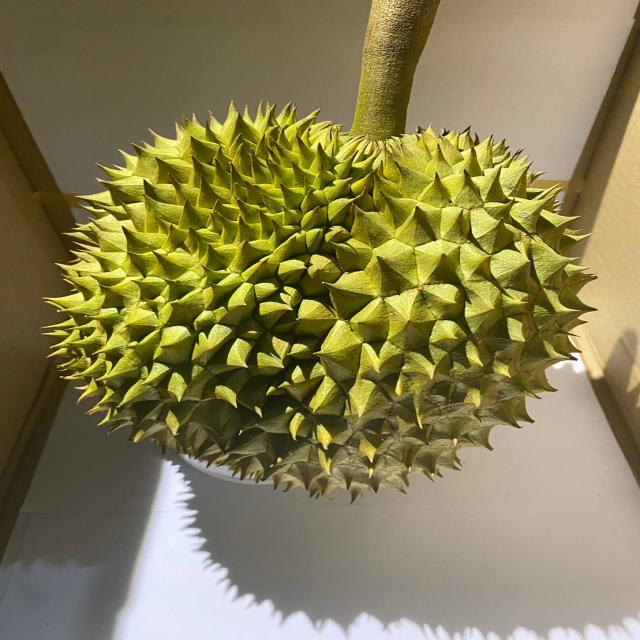immature: (41, 98, 603, 500)
